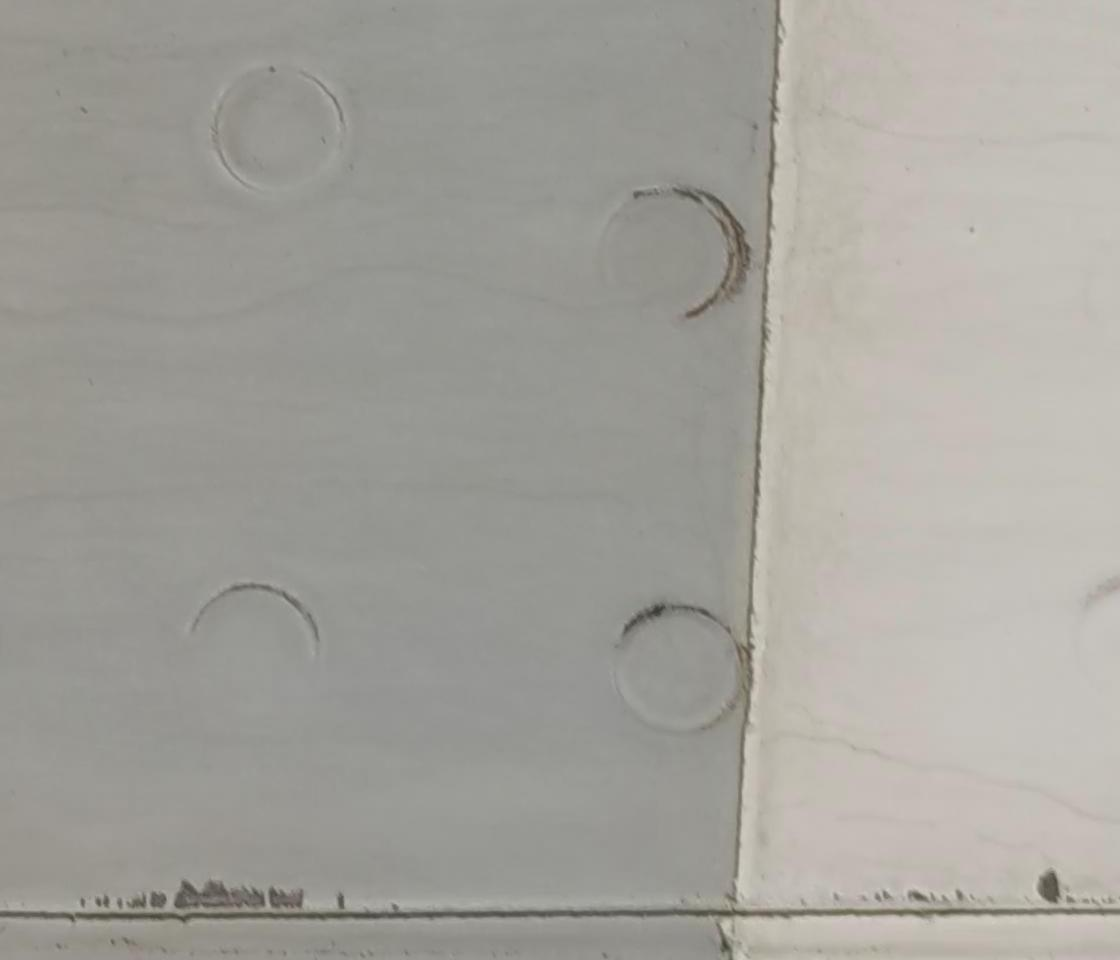paint_peel: (81, 872, 318, 915)
